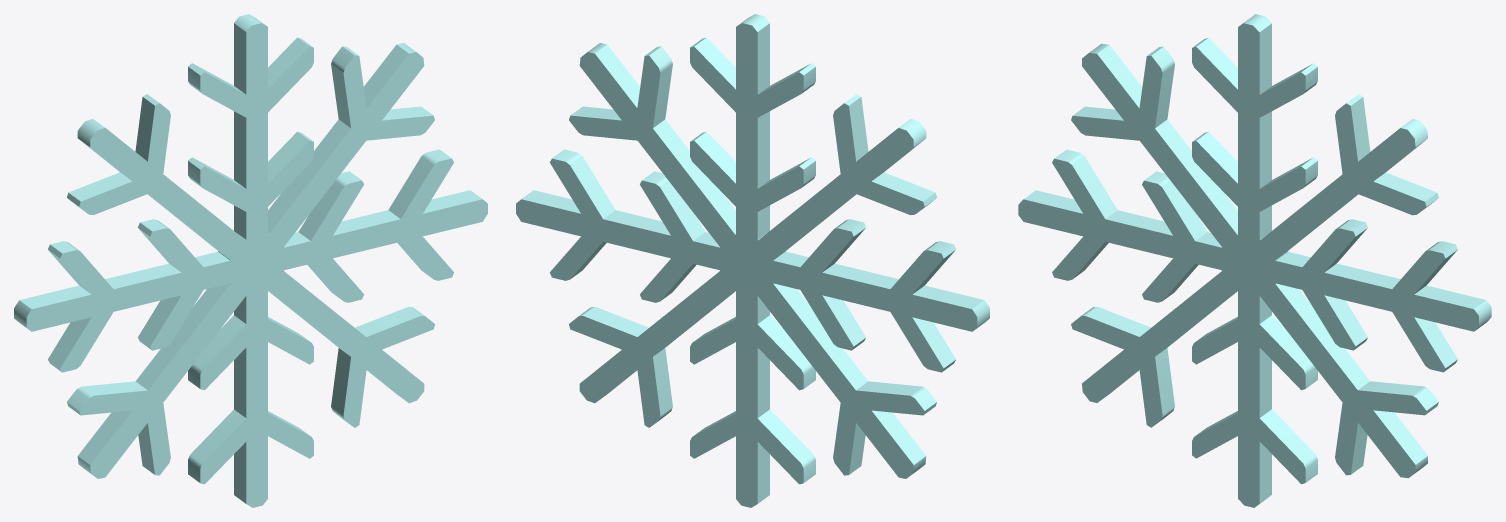
Rendered from SnowFlakeE.glb.
The picture shows the model from 3 angles, left to right: view 1: azimuth 30°, elevation 25°; view 2: azimuth 150°, elevation 25°; view 3: azimuth 330°, elevation 25°; orthographic projection.
Bounding box in the file's own units: 21.35 × 21.35 × 1.
